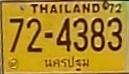2: (26, 18, 41, 52)
3: (106, 17, 122, 50), (72, 18, 88, 50)
4: (56, 17, 70, 51)
7: (9, 17, 23, 52)
8: (90, 18, 104, 50)
NPT: (42, 54, 91, 73)
